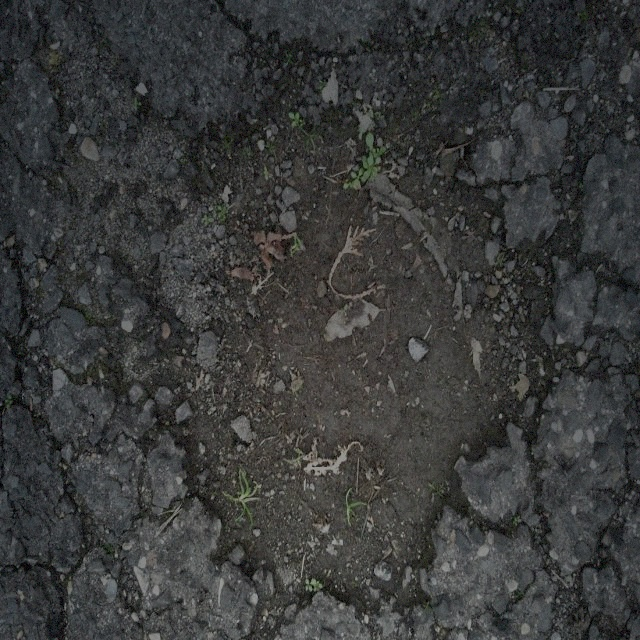pothole: (138, 55, 556, 614)
